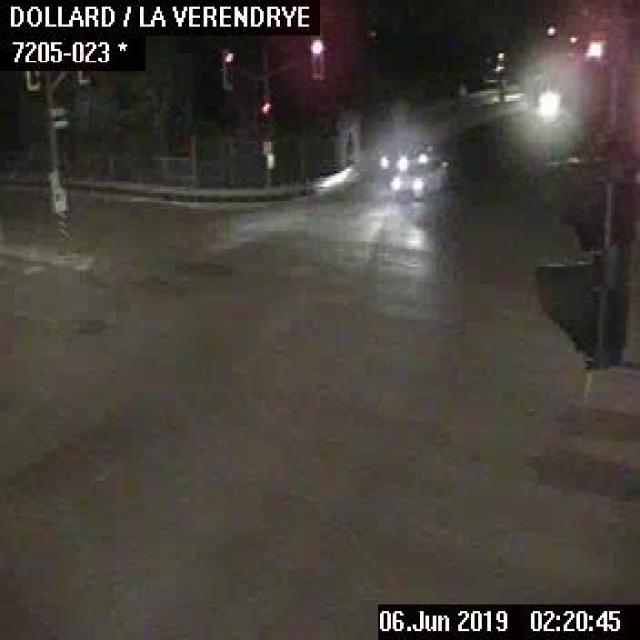vehicle: (394, 166, 446, 198), (378, 138, 411, 171)
